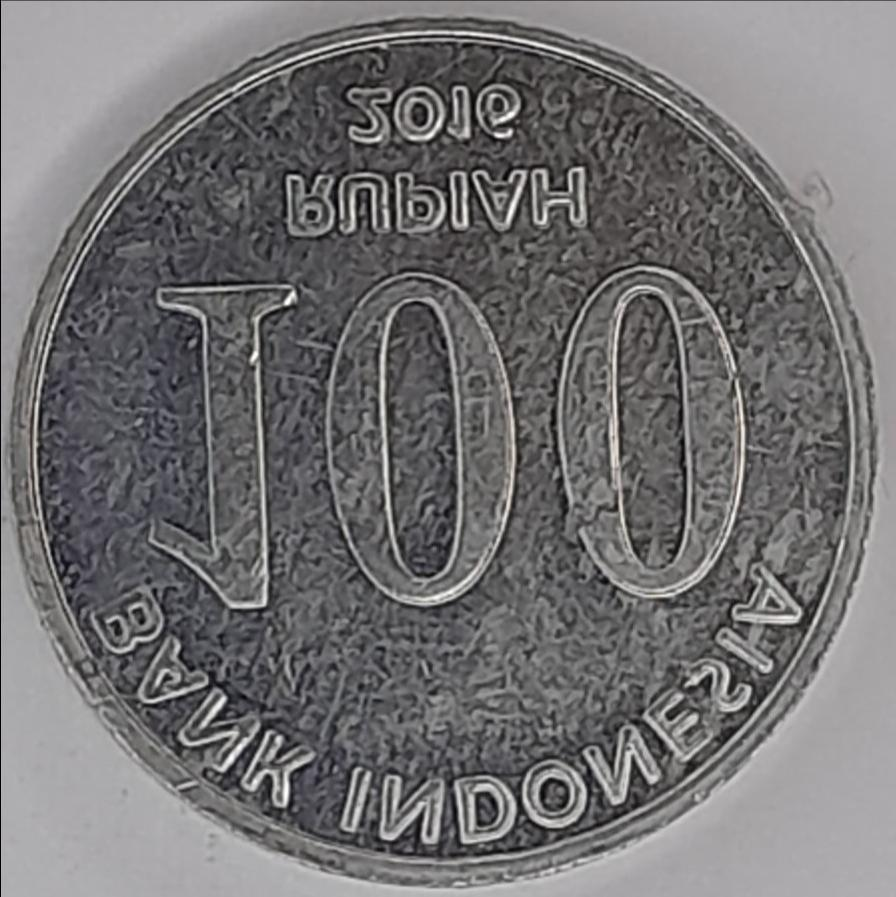coin_100_e2016: (6, 8, 885, 891)
